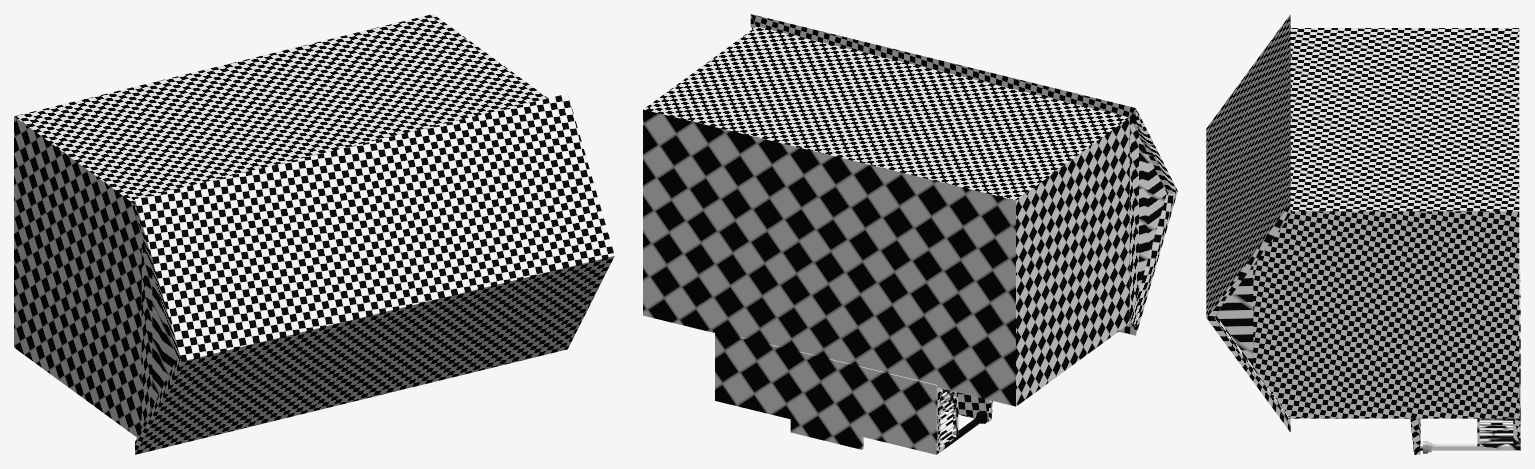
File: house.obj
3 views of the same model, side by side, from view 1: azimuth 30°, elevation 25°; view 2: azimuth 150°, elevation 25°; view 3: azimuth 270°, elevation 25° (orthographic). The views are drawn at different scales.
Bounding box in the file's own units: 186 × 137 × 131.
